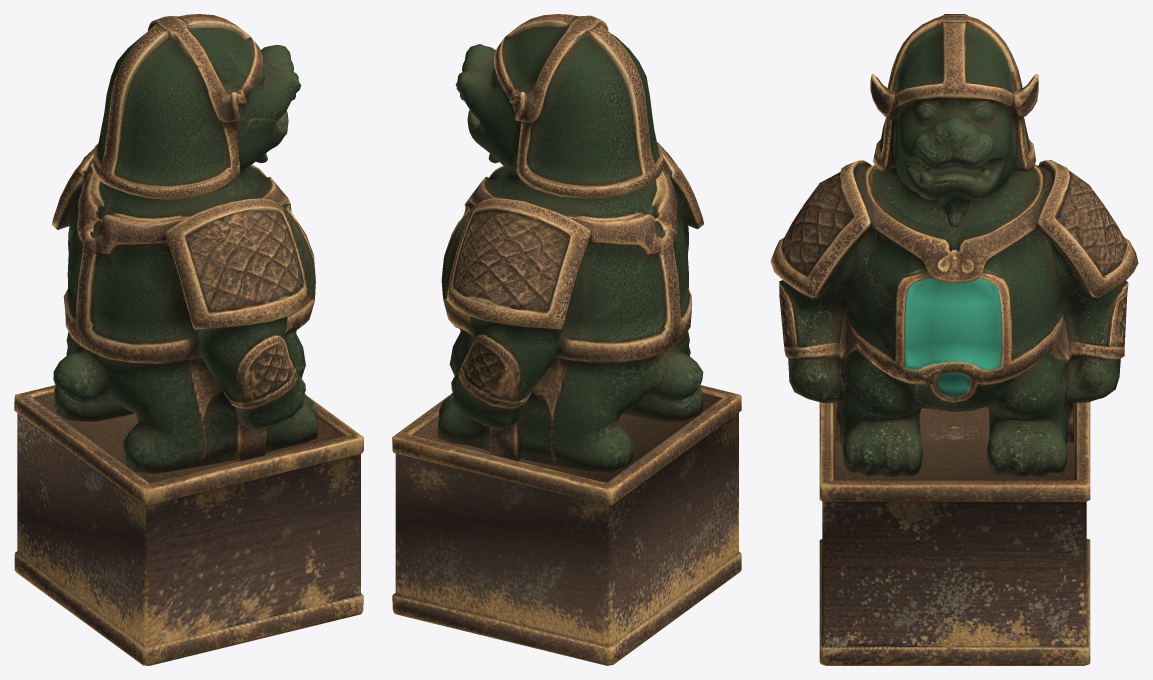
The model's file is tripo_convert_78d51c0b-20fb-45b5-8e1a-d4e720c754fa.fbx.
3 views of the same model, side by side, from view 1: azimuth 30°, elevation 25°; view 2: azimuth 150°, elevation 25°; view 3: azimuth 270°, elevation 25° (orthographic). The views are drawn at different scales.
Parts seen in each view (by area): view 1: tripo_node_78d51c0b; view 2: tripo_node_78d51c0b; view 3: tripo_node_78d51c0b.
Boxes of the visible parts, box(x1,y1,x2,y2) form: tripo_node_78d51c0b: box(14, 14, 363, 665); tripo_node_78d51c0b: box(392, 14, 741, 665); tripo_node_78d51c0b: box(770, 14, 1138, 665).
Bounding box in the file's own units: 0.4434 × 0.998 × 0.5684.
1 material, 1 textured.
